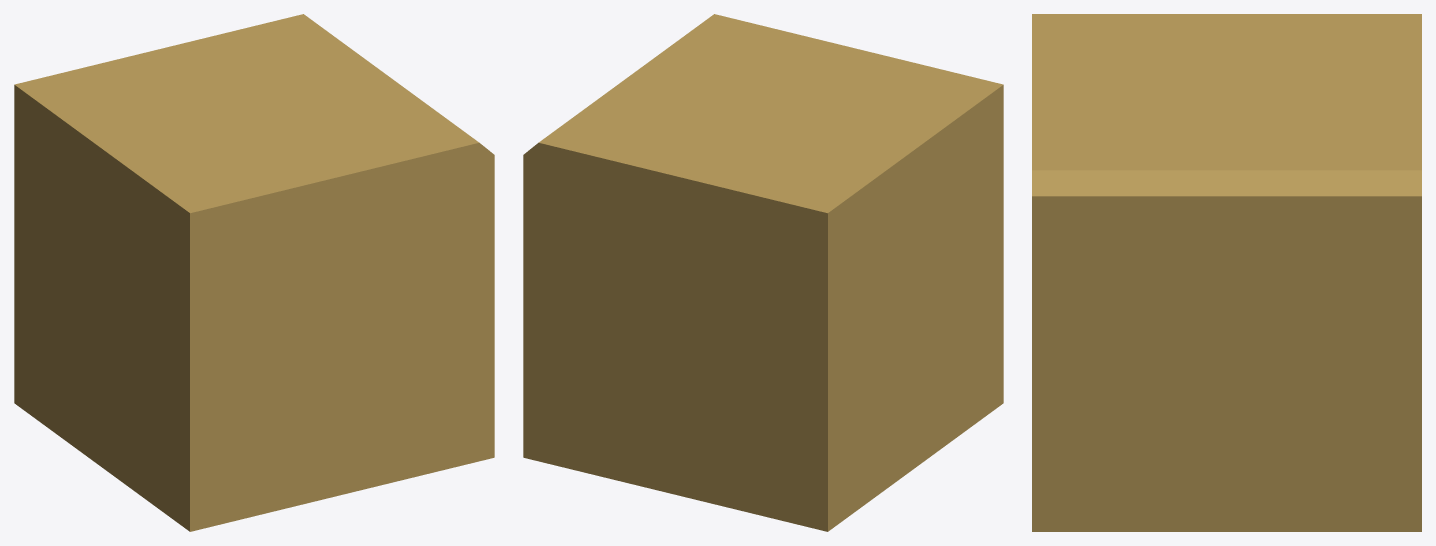
Rendered from wall_1.fbx.
The picture shows the model from 3 angles, left to right: view 1: azimuth 30°, elevation 25°; view 2: azimuth 150°, elevation 25°; view 3: azimuth 270°, elevation 25°; orthographic projection. The views are drawn at different scales.
Parts seen in each view (by area): view 1: wall_1; view 2: wall_1; view 3: wall_1.
Part boxes in pixels (x1,y1,x2,y2): wall_1: (14,14,494,531); wall_1: (523,14,1003,531); wall_1: (1032,14,1421,531).
Bounding box in the file's own units: 100 × 100 × 100.
